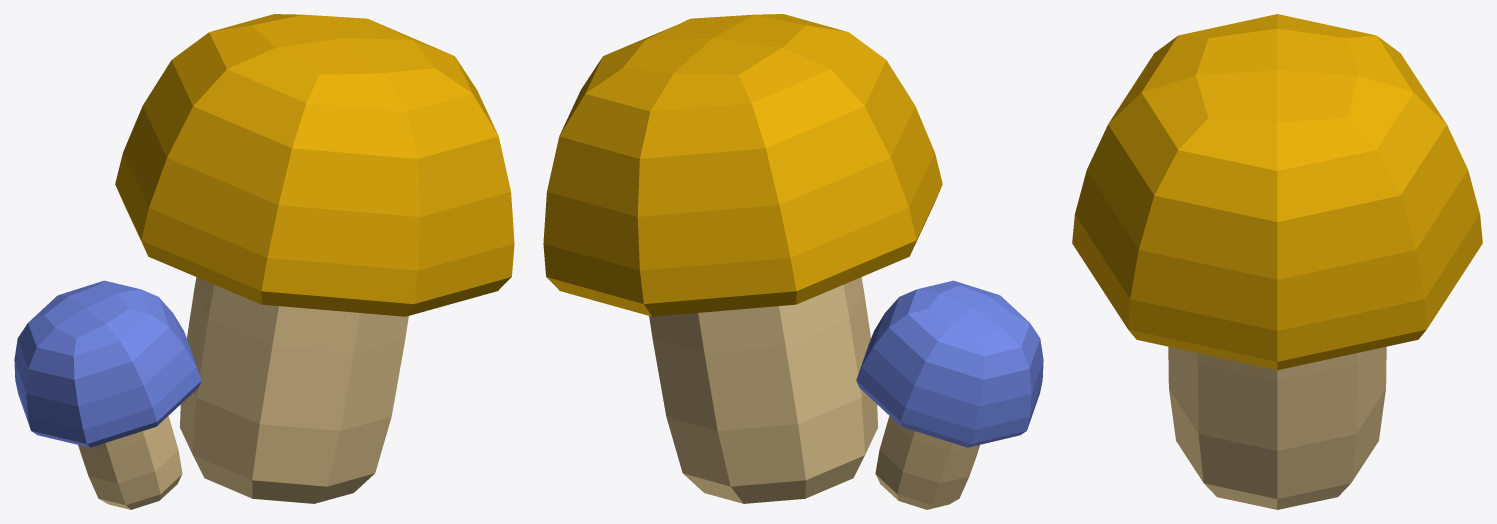
The model's file is mushroom3.fbx.
The picture shows the model from 3 angles, left to right: view 1: azimuth 30°, elevation 25°; view 2: azimuth 150°, elevation 25°; view 3: azimuth 270°, elevation 25°; orthographic projection. The views are drawn at different scales.
Parts seen in each view (by area): view 1: Cube.003; view 2: Cube.003; view 3: Cube.003.
Part boxes in pixels (x1=…): Cube.003: x1=14, y1=14, x2=514, y2=509; Cube.003: x1=543, y1=14, x2=1043, y2=509; Cube.003: x1=1072, y1=14, x2=1482, y2=509.
Bounding box in the file's own units: 72.67 × 65.91 × 54.77.
